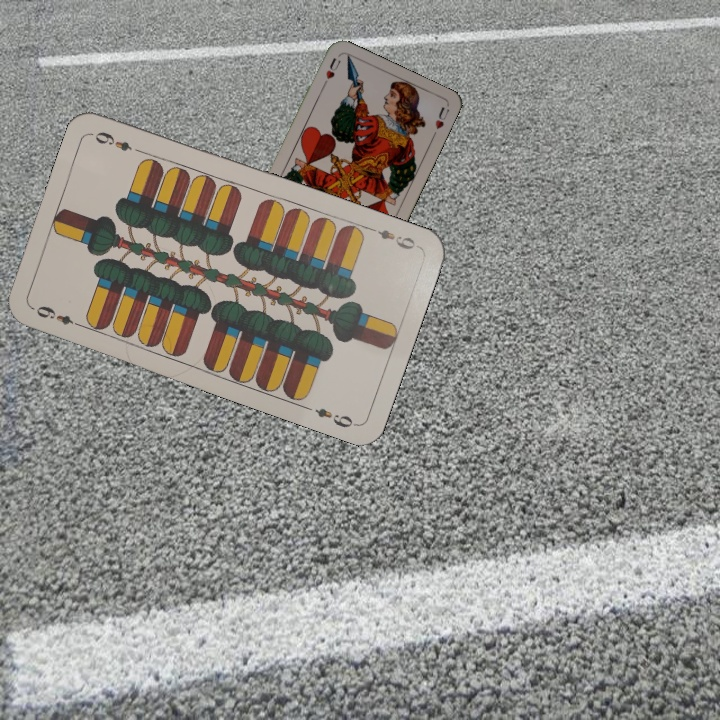E9: (32, 301, 86, 330), (365, 223, 418, 252)
HU: (318, 54, 343, 91)
